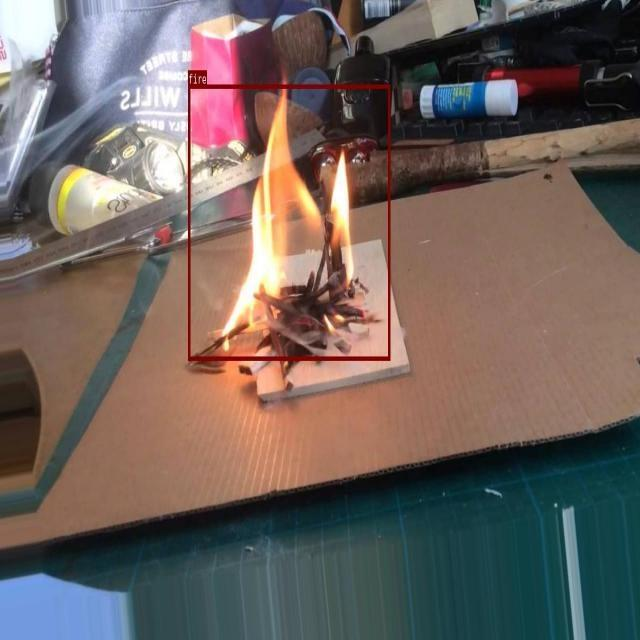fire: (188, 84, 390, 360)
